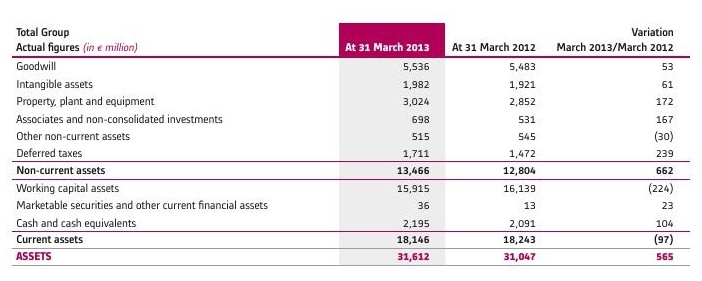table: (0, 0, 702, 281)
